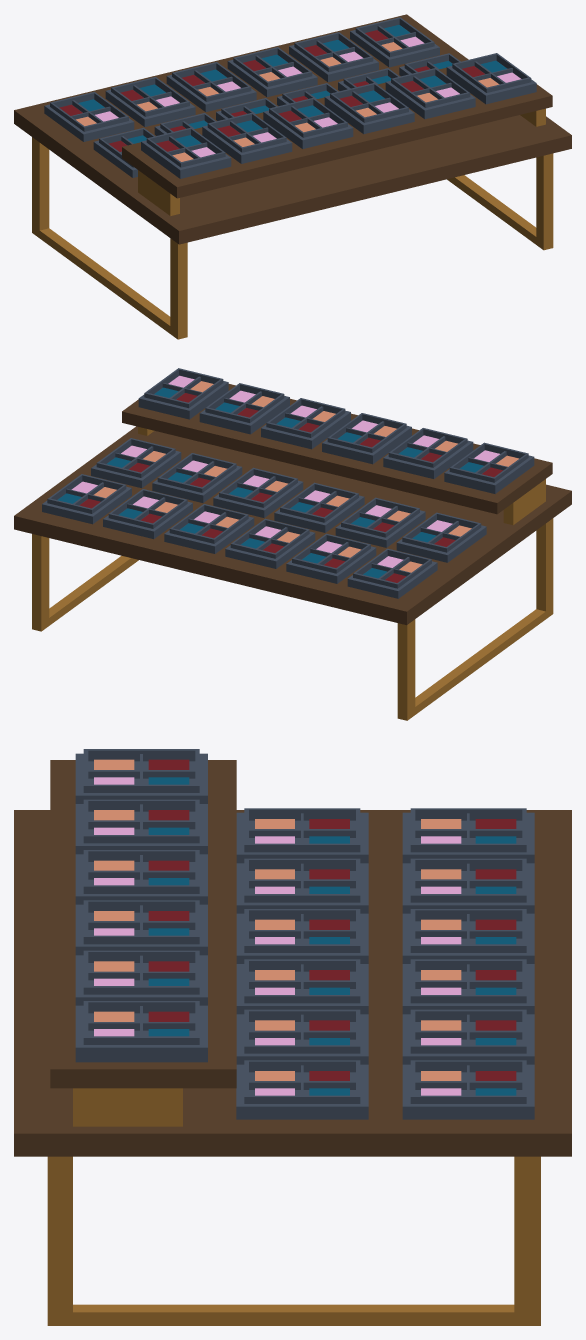
Rendered from stealth_table_S.fbx.
3 renders of one model, top to bottom at view 1: azimuth 30°, elevation 25°; view 2: azimuth 150°, elevation 25°; view 3: azimuth 270°, elevation 25°, orthographic. The views are drawn at different scales.
Visible parts, largest first — view 1: Cube.008, Table S; view 2: Table S, Cube.008; view 3: Table S, Cube.008.
Part boxes in pixels (left/top/right/bottom): Cube.008: left=14, top=14, right=571, bottom=339; Table S: left=44, top=17, right=536, bottom=178; Table S: left=42, top=368, right=534, bottom=598; Cube.008: left=14, top=384, right=571, bottom=720; Table S: left=75, top=749, right=534, bottom=1119; Cube.008: left=14, top=760, right=571, bottom=1325.
Size of the model in its own units: 467 by 187 by 340.
